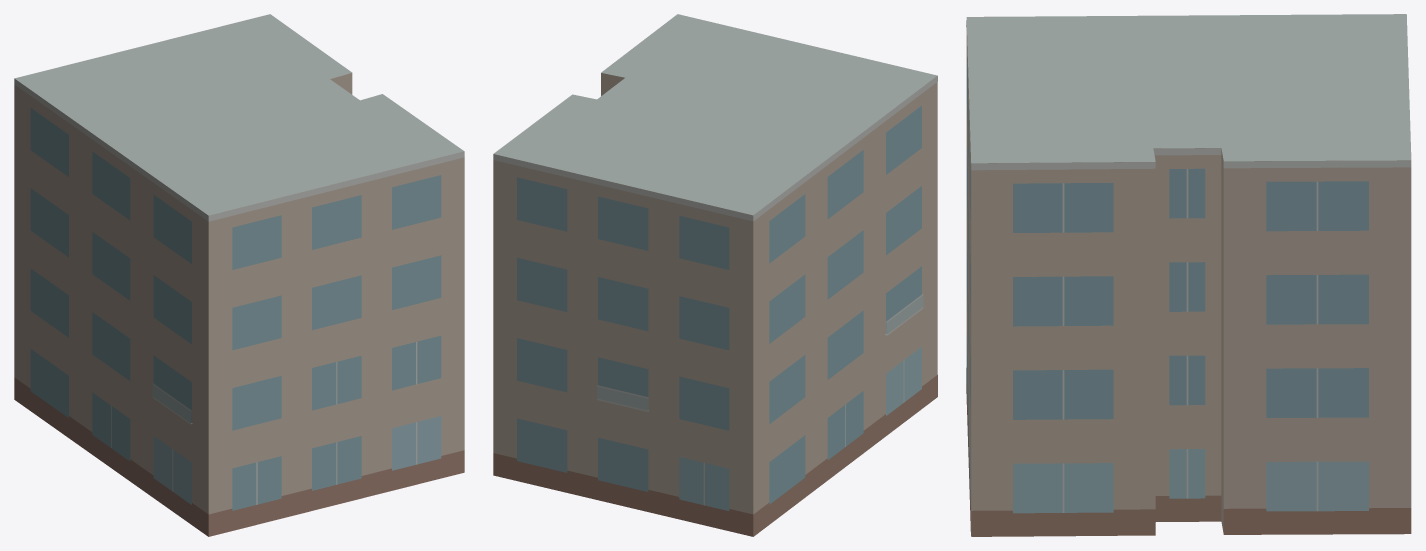
The model's file is survey-upis-33042637.glb.
3 renders of one model, left to right at view 1: azimuth 30°, elevation 25°; view 2: azimuth 150°, elevation 25°; view 3: azimuth 270°, elevation 25°, orthographic. The views are drawn at different scales.
Parts seen in each view (by area): view 1: survey-upis-33042637.tmp; view 2: survey-upis-33042637.tmp; view 3: survey-upis-33042637.tmp.
Part boxes in pixels (bbox=[...]): survey-upis-33042637.tmp: bbox=[14, 14, 464, 536]; survey-upis-33042637.tmp: bbox=[493, 14, 937, 536]; survey-upis-33042637.tmp: bbox=[966, 14, 1411, 536].
Bounding box in the file's own units: 11.15 × 13 × 14.04.
